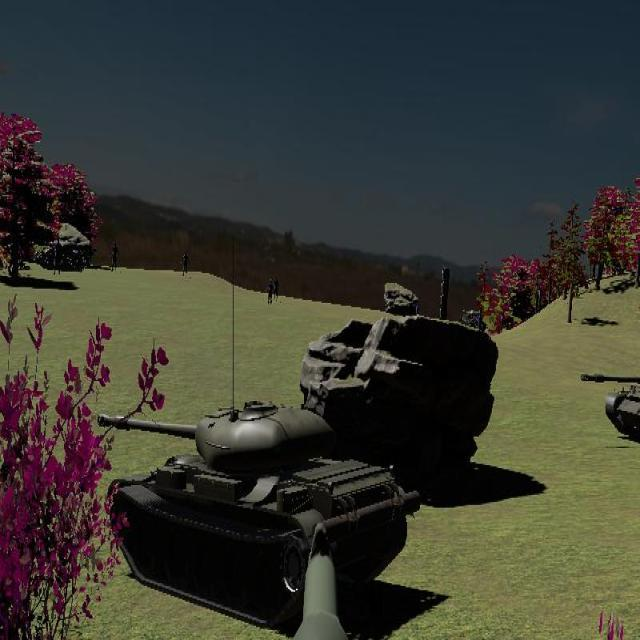Tank: (98, 399, 425, 629), (580, 361, 640, 455)
